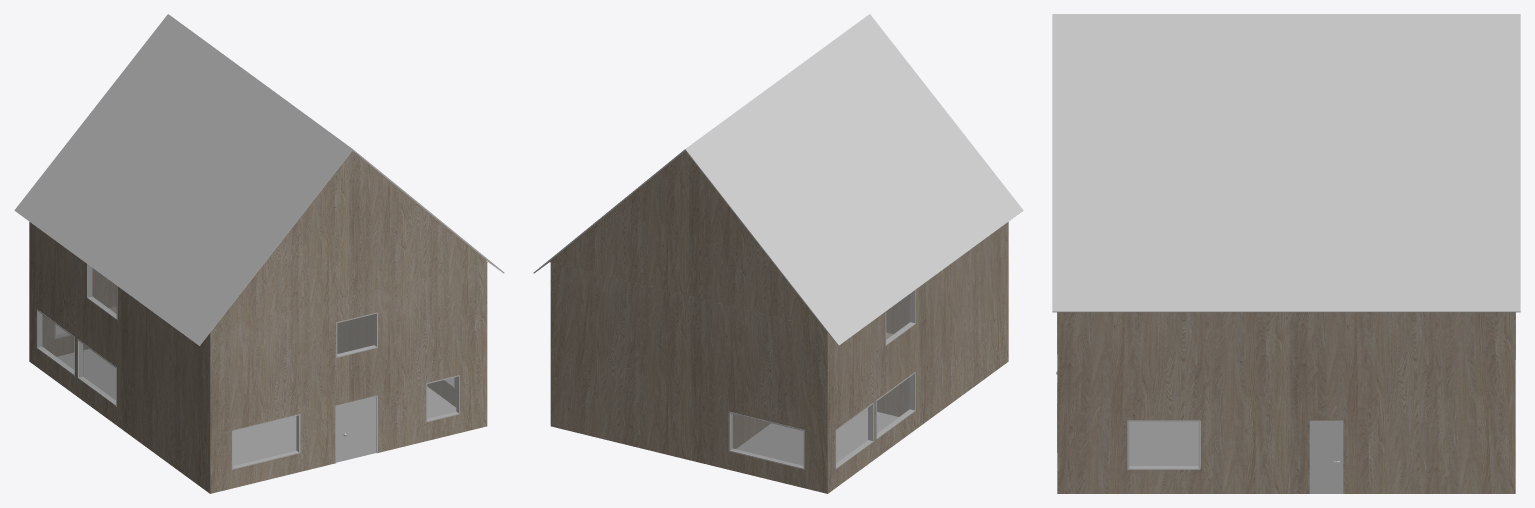
Rendered from House.fbx.
3 renders of one model, left to right at view 1: azimuth 30°, elevation 25°; view 2: azimuth 150°, elevation 25°; view 3: azimuth 270°, elevation 25°, orthographic. The views are drawn at different scales.
Visible parts, largest first — view 1: house, pasted__pasted__pCube8, pCube9, pCube8, pasted__pasted__pasted__pasted__pasted__pasted__pasted__pCub (×2), pasted__pasted__pasted__pasted__pasted__pasted__pCube3, pCube7, pasted__pasted__pasted__pCube3, pasted__pasted__pasted__pasted__pCube3, pasted__pasted__pCube3, pCube5, pasted__pasted__pasted__pCube8 (+2 smaller); view 2: house, pasted__pasted__pCube8, pasted__pCube9, pCube8, pasted__pasted__pasted__pasted__pasted__pCube3, pasted__pasted__pasted__pCube3, pasted__pasted__pasted__pasted__pCube3, pasted__pasted__pCube3, pasted__pasted__pasted__pCube5, pasted__pasted__pasted__pCube8, pasted__pCube5, pasted__pasted__pCube5; view 3: pasted__pasted__pasted__pCube8, house, pasted__pasted__pasted__pasted__pasted__pasted__pasted__past, pCube8, group39, pasted__pasted__pCube5.
Part boxes in pixels (box(x1,y1,x2,y2)): house: box(29, 222, 487, 493); pasted__pasted__pCube8: box(14, 14, 352, 345); pCube9: box(213, 151, 487, 329); pCube8: box(57, 349, 456, 465); pasted__pasted__pasted__pasted__pasted__pasted__pasted__pCub (×2): box(337, 314, 458, 420); pasted__pasted__pasted__pasted__pasted__pasted__pCube3: box(233, 416, 298, 467); pCube7: box(336, 396, 376, 462); pasted__pasted__pasted__pCube3: box(79, 342, 115, 404); pasted__pasted__pasted__pasted__pCube3: box(38, 312, 74, 373); pasted__pasted__pCube3: box(88, 265, 116, 317); pCube5: box(232, 414, 300, 469); pasted__pasted__pasted__pCube8: box(168, 14, 504, 273); house: box(550, 222, 1008, 493); pasted__pasted__pCube8: box(685, 14, 1023, 345); pasted__pCube9: box(549, 151, 824, 328); pCube8: box(736, 408, 898, 465); pasted__pasted__pasted__pasted__pasted__pCube3: box(730, 414, 803, 467); pasted__pasted__pasted__pCube3: box(877, 374, 914, 437); pasted__pasted__pasted__pasted__pCube3: box(836, 405, 872, 466); pasted__pasted__pCube3: box(886, 291, 914, 343); pasted__pasted__pasted__pCube5: box(728, 411, 804, 469); pasted__pasted__pasted__pCube8: box(533, 14, 869, 273); pasted__pCube5: box(876, 372, 915, 439); pasted__pasted__pCube5: box(835, 402, 873, 469); pasted__pasted__pasted__pCube8: box(1052, 14, 1520, 312); house: box(1057, 312, 1515, 493); pasted__pasted__pasted__pasted__pasted__pasted__pasted__past: box(1129, 421, 1198, 467); pCube8: box(1129, 421, 1341, 493); group39: box(1310, 421, 1342, 493); pasted__pasted__pCube5: box(1127, 420, 1200, 469).
Size of the model in its own units: 31.49 by 30.74 by 32.95.
